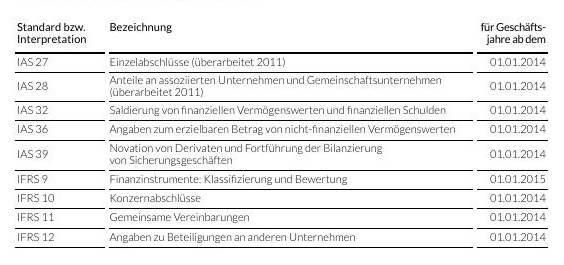table: (0, 0, 564, 265)
